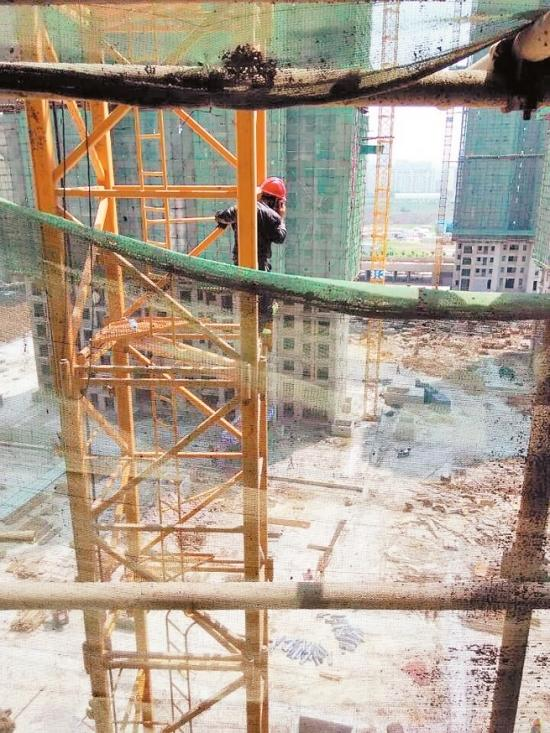helmet: (259, 176, 288, 201)
no_wear: (219, 197, 287, 270)
